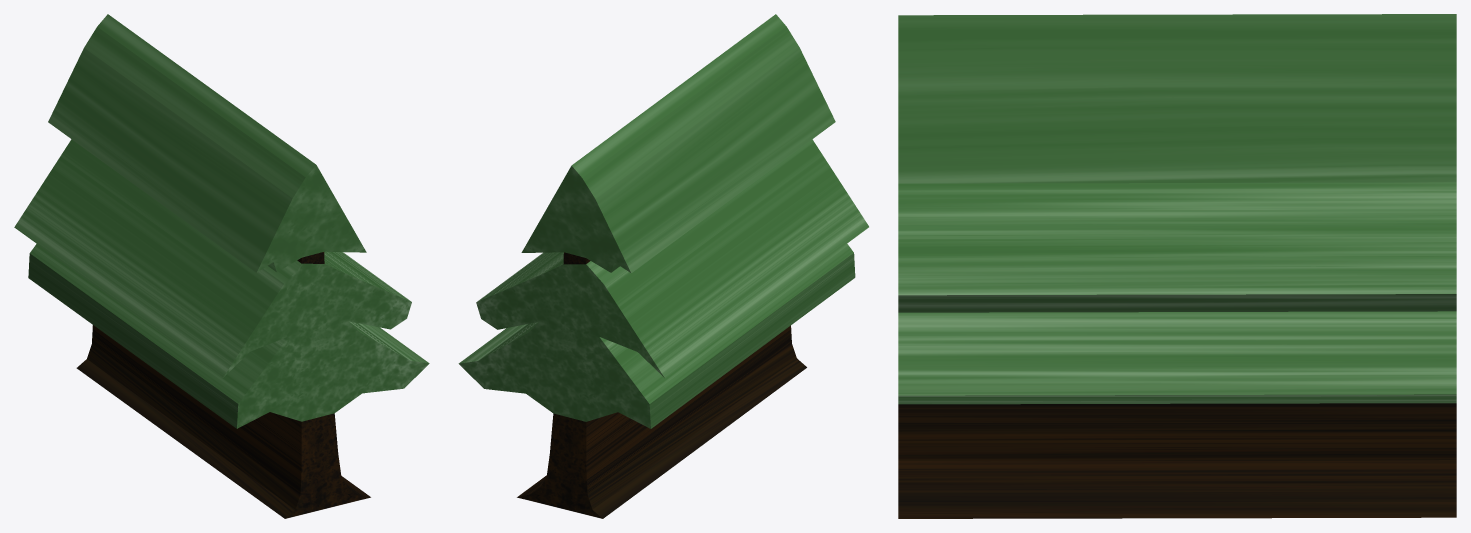
Rendered from tree.obj.
3 views of the same model, side by side, from view 1: azimuth 30°, elevation 25°; view 2: azimuth 150°, elevation 25°; view 3: azimuth 270°, elevation 25° (orthographic). The views are drawn at different scales.
Parts seen in each view (by area): view 1: Baum; view 2: Baum; view 3: Baum.
Part boxes in pixels (x1,y1,x2,y2): Baum: (14,14,429,518); Baum: (458,14,868,518); Baum: (898,14,1456,518).
Size of the model in its own units: 1.74 by 2.75 by 2.97.
